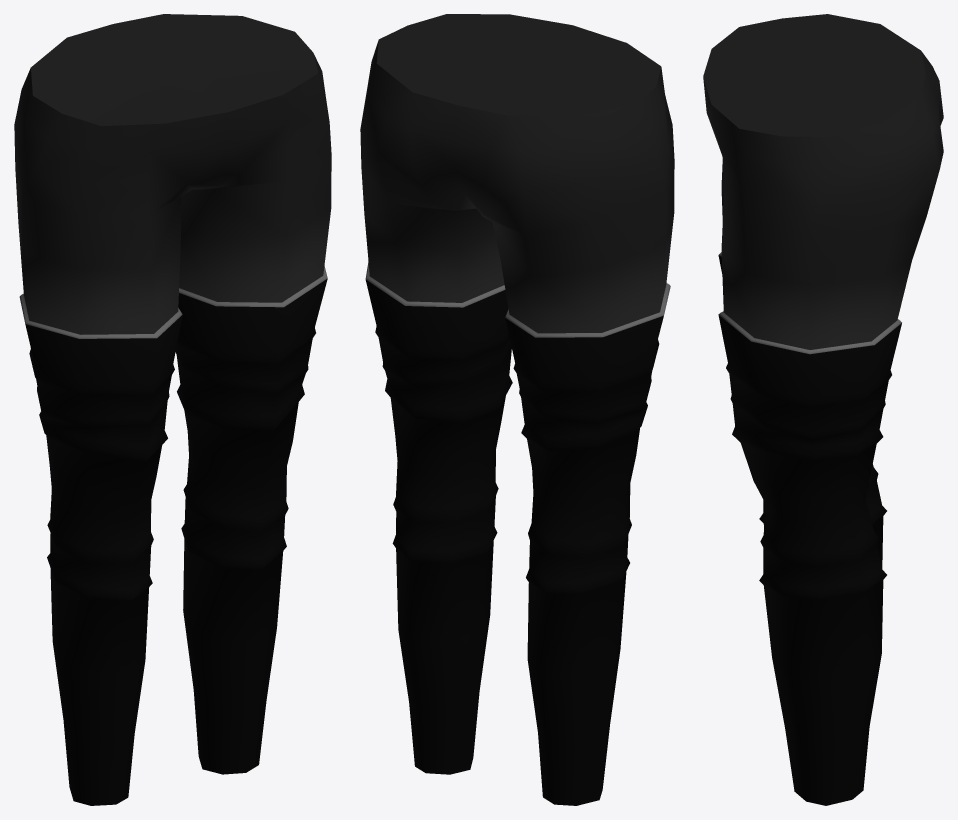
The model's file is F_lBody_SpySuit.glb.
3 renders of one model, left to right at view 1: azimuth 30°, elevation 25°; view 2: azimuth 150°, elevation 25°; view 3: azimuth 270°, elevation 25°, orthographic. The views are drawn at different scales.
Visible parts, largest first — view 1: F_lBody_SpySuit; view 2: F_lBody_SpySuit; view 3: F_lBody_SpySuit.
Part boxes in pixels (x1,y1,x2,y2): F_lBody_SpySuit: (14,14,331,805); F_lBody_SpySuit: (360,14,674,805); F_lBody_SpySuit: (703,14,943,805).
Size of what is drawn, in the model's own units: 0.8062 by 1.84 by 0.5827.
1 material, 1 textured.
